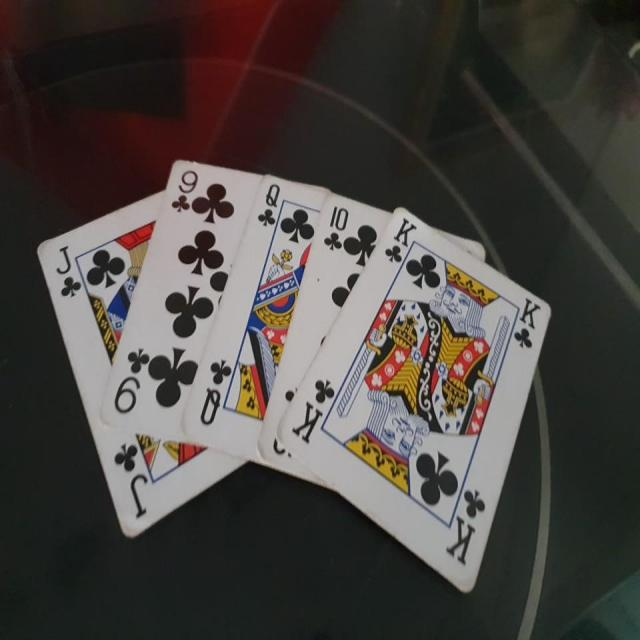10 Trefoils: (254, 189, 488, 482)
9 Trefoils: (99, 156, 330, 444)
J Trefoils: (35, 192, 250, 541)
K Trefoils: (274, 201, 555, 599)
Q Trefoils: (181, 170, 332, 468)
